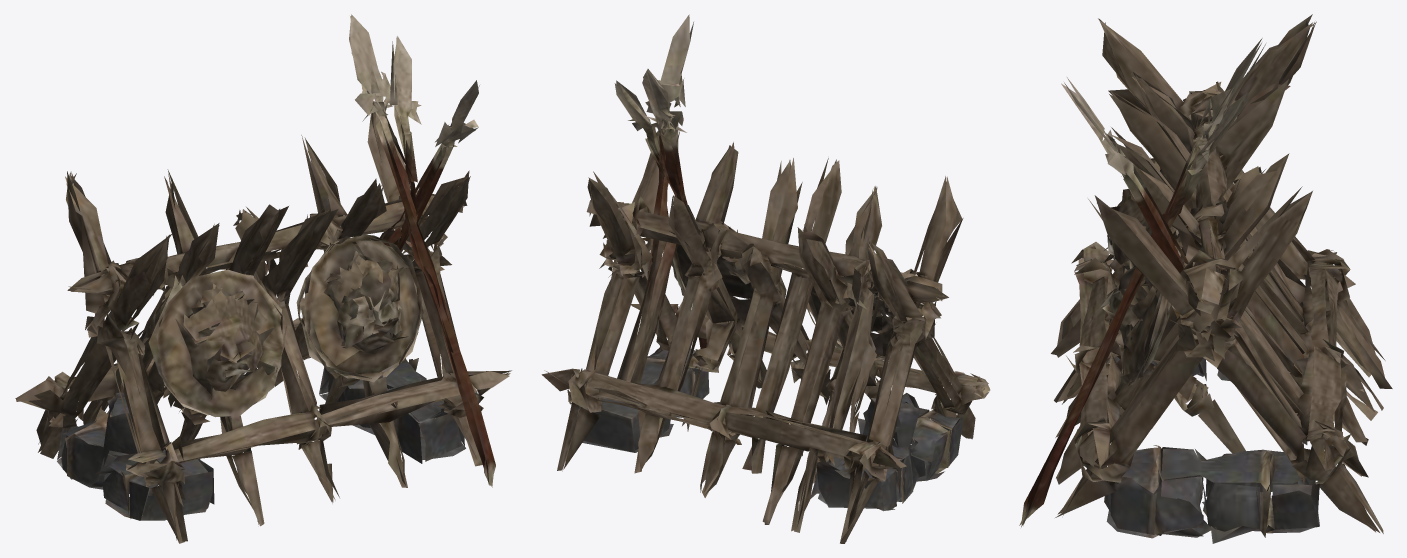
The model's file is barricade.glb.
The picture shows the model from 3 angles, left to right: view 1: azimuth 30°, elevation 25°; view 2: azimuth 150°, elevation 25°; view 3: azimuth 270°, elevation 25°; orthographic projection. The views are drawn at different scales.
Visible parts, largest first — view 1: barricade; view 2: barricade; view 3: barricade.
Boxes of the visible parts, x1,y1,x2,y2 form: barricade: (15, 14, 511, 543); barricade: (541, 14, 990, 543); barricade: (1019, 14, 1392, 543).
Bounding box in the file's own units: 1.81 × 1.81 × 1.27.
Materials: 1 (1 with a texture image).
